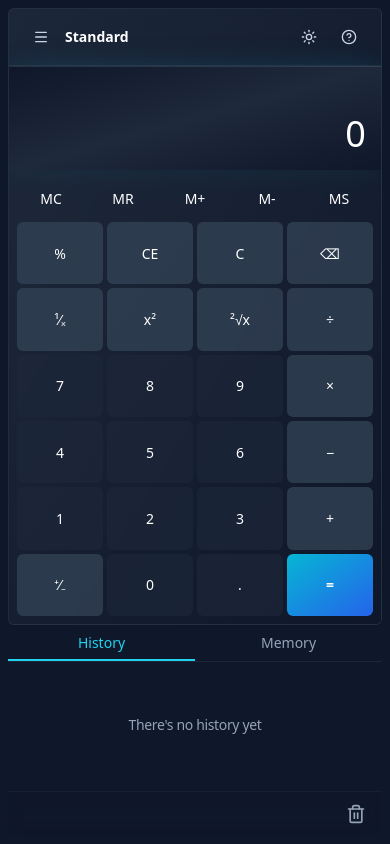
Scenario: History Functionality › saves calculation to history
This screenshot has width=390, height=844.
// Perform a calculation
Click the button named "Two" at (150, 518), box x1=107 y1=487 x2=193 y2=550
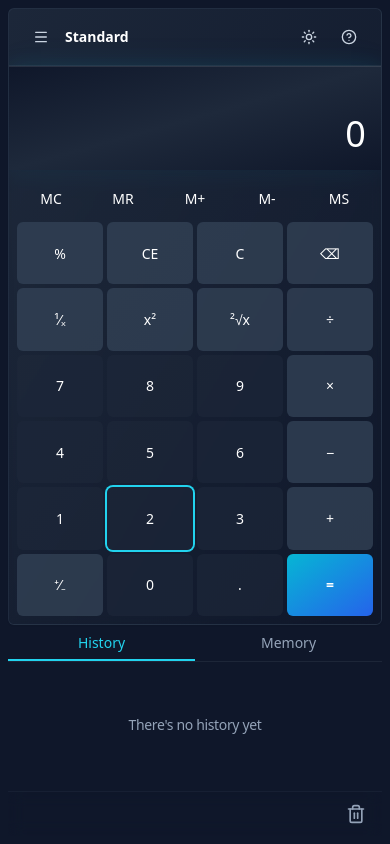
Click the button named "Add" at (330, 518), box x1=287 y1=487 x2=373 y2=550
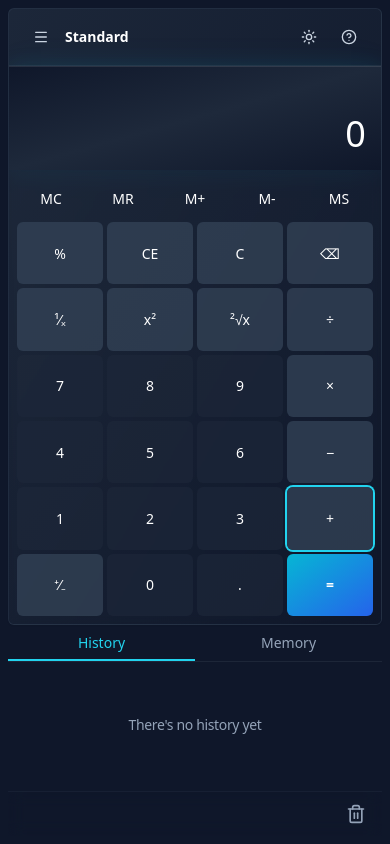
Click the button named "Three" at (240, 518), box x1=197 y1=487 x2=283 y2=550
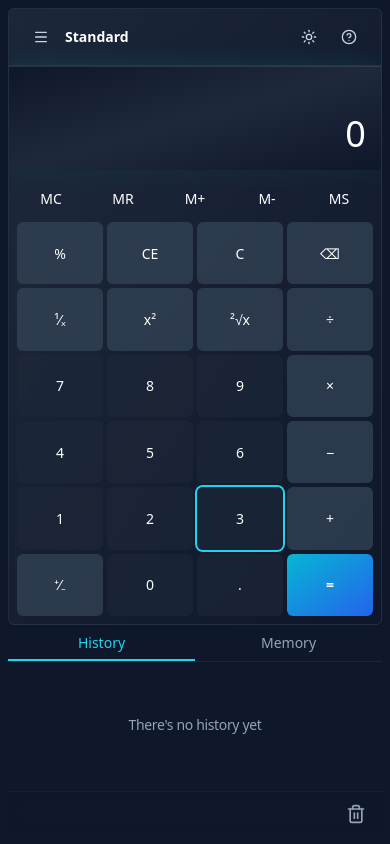
Click the button named "Equals" at (330, 585), box x1=287 y1=554 x2=373 y2=616
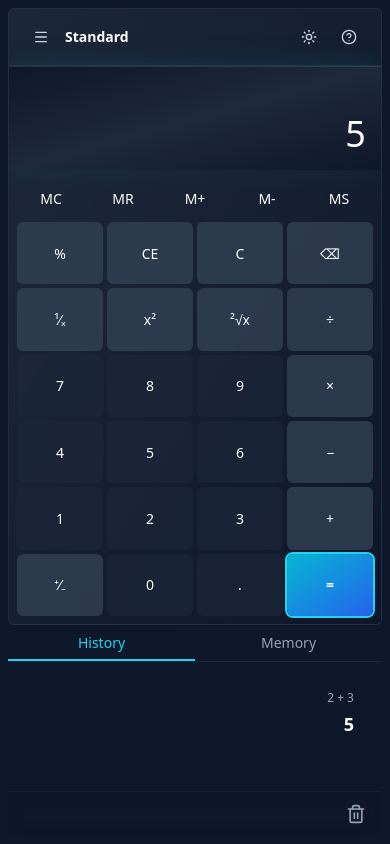
Now the text "2 + 3" is shown, box x1=327 y1=689 x2=354 y2=706
Now the message named "Display" reads "5", box x1=345 y1=109 x2=365 y2=158
